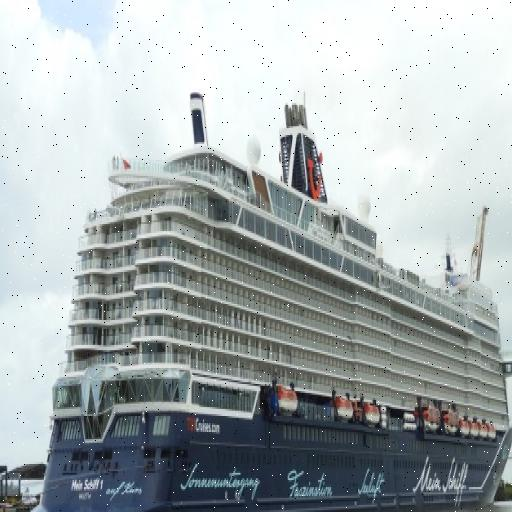cruises: (38, 84, 512, 512)
